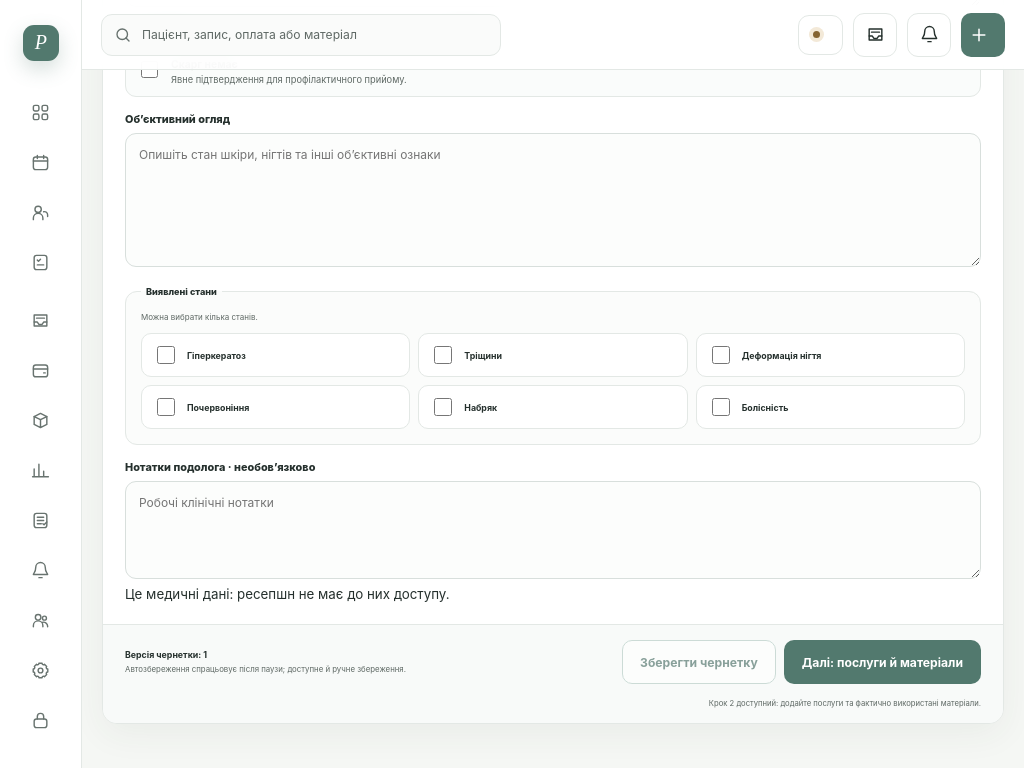
it: TP-1019 visit finish discount › clears an unavailable discount and requires confirmation after refreshing the picker
(page scrolled)
Click the button "Далі: послуги й матеріали" at (882, 662), box x1=784 y1=640 x2=981 y2=684
(page scrolled)
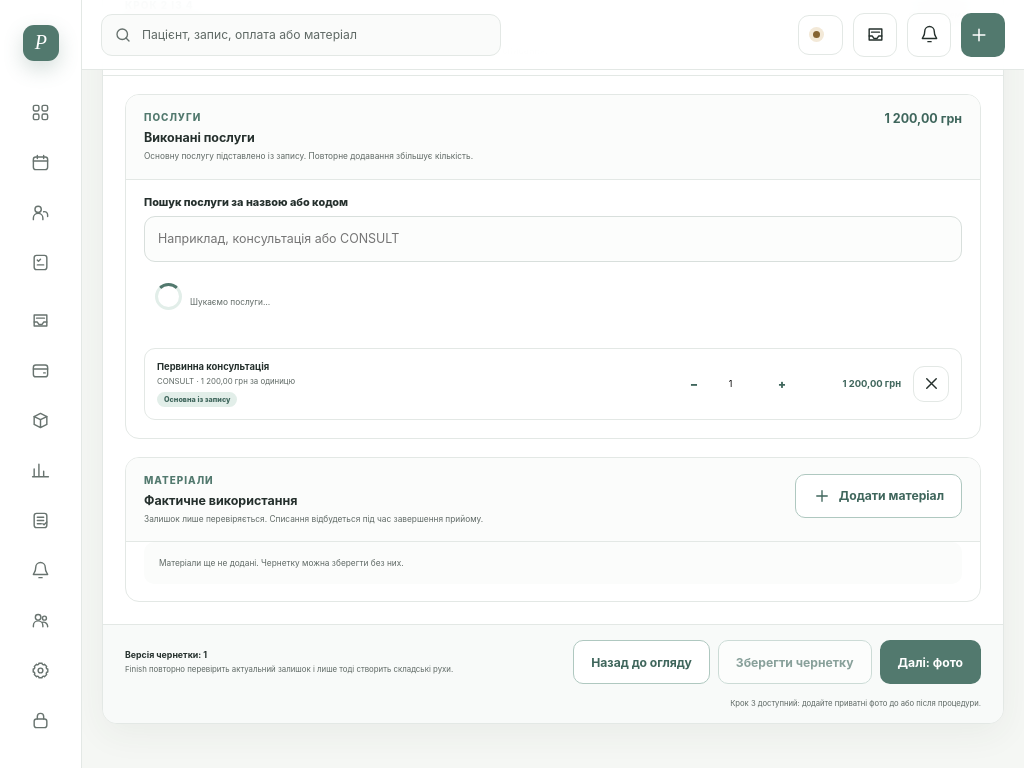
Click the button "Далі: фото" at (930, 662), box x1=880 y1=640 x2=981 y2=684
(page scrolled)
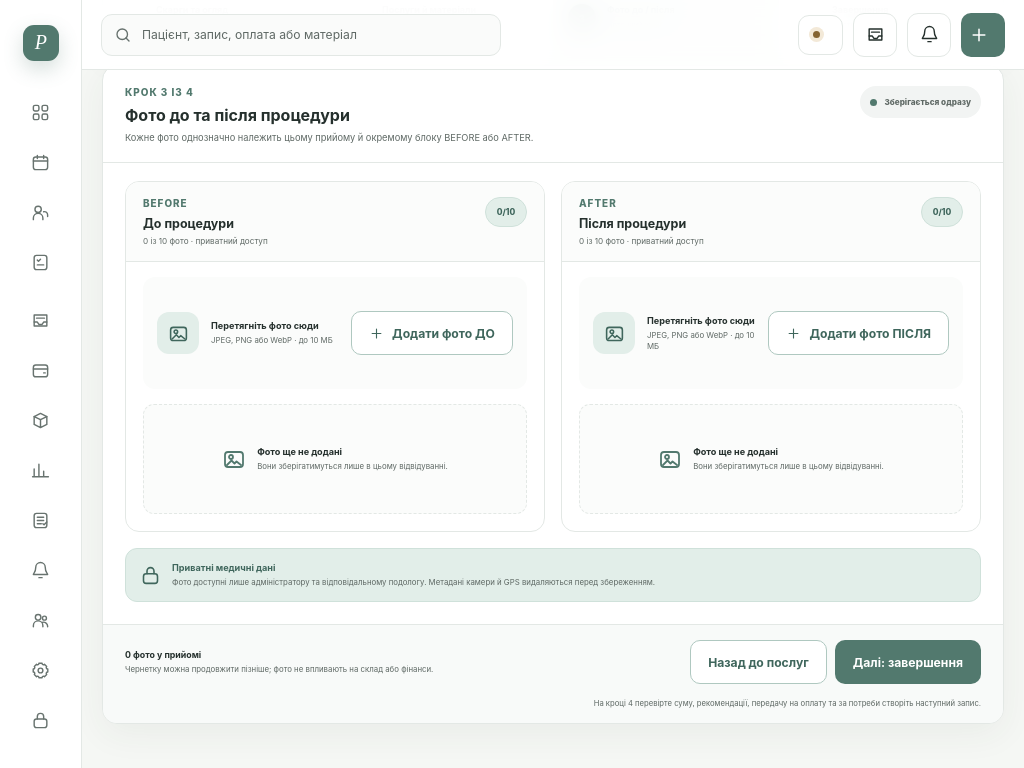
Click the button "Далі: завершення" at (908, 662), box x1=835 y1=640 x2=981 y2=684
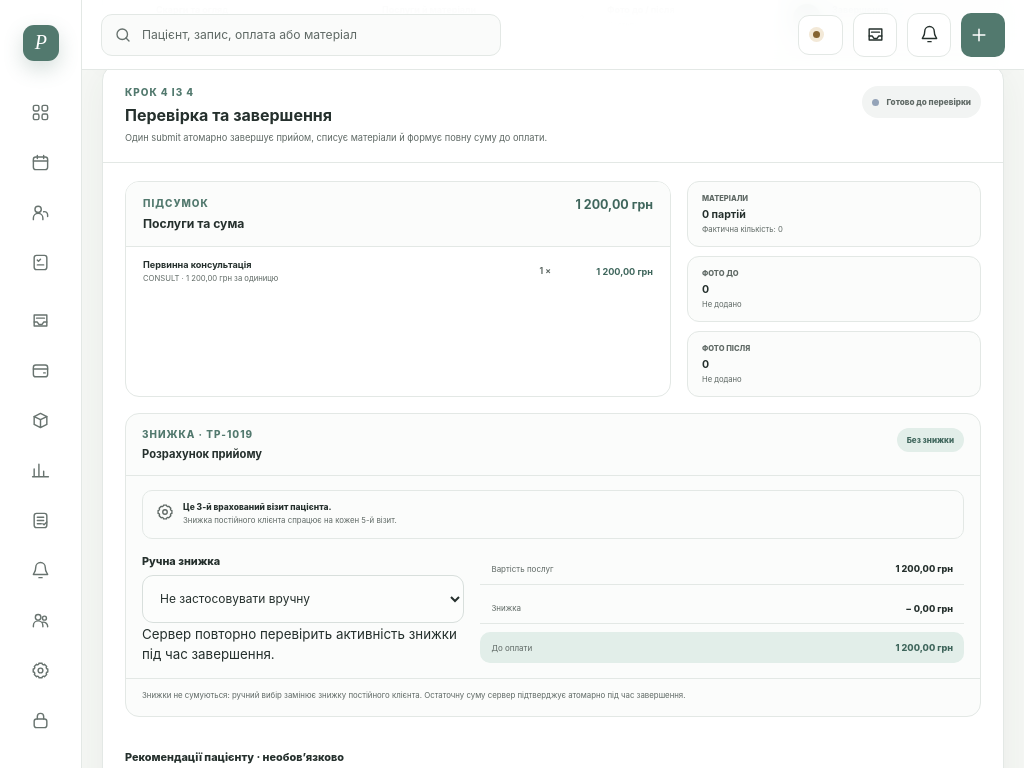
Now the heading "Перевірка та завершення" is shown, box x1=125 y1=105 x2=332 y2=125
Select "Постійний клієнт · 10%" in the dropdown labelled "Ручна знижка" at (303, 599), box x1=142 y1=575 x2=464 y2=623
(page scrolled)
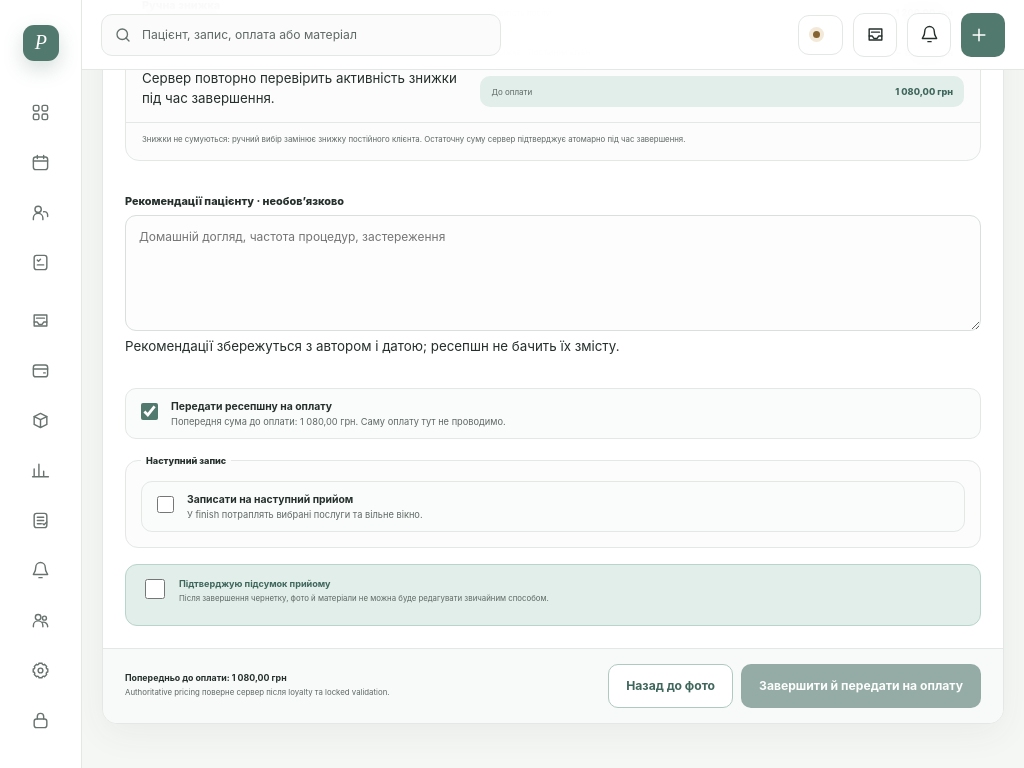
Click the checkbox labelled "Підтверджую підсумок прийому" at (155, 589), box x1=145 y1=579 x2=165 y2=599
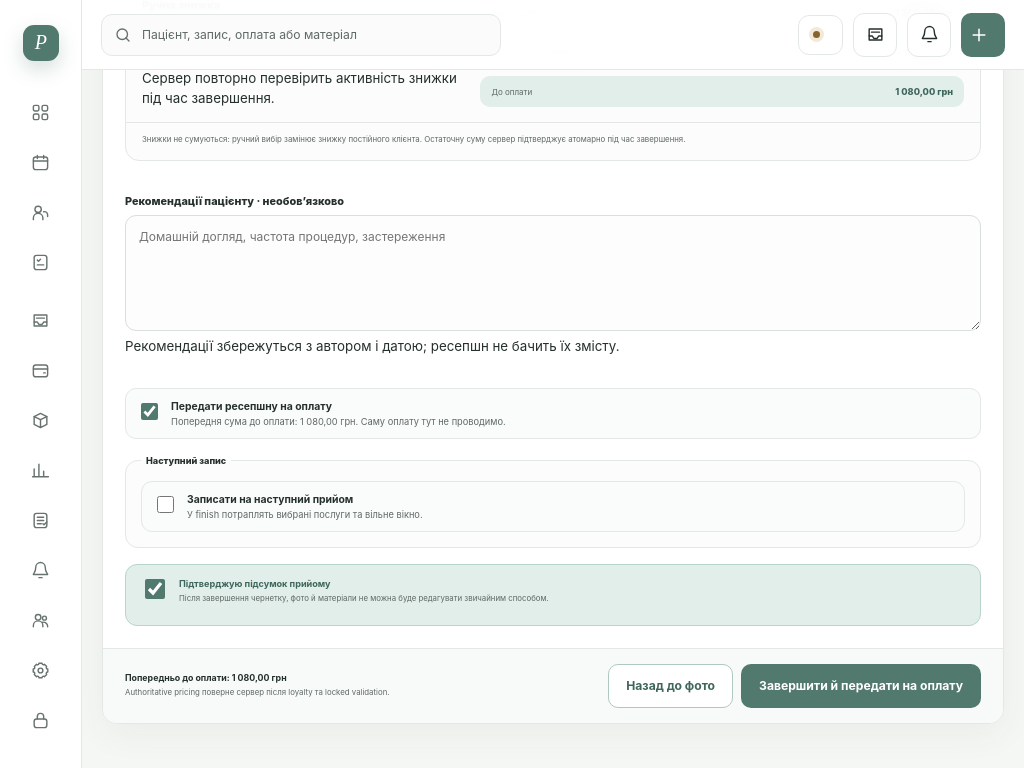
Click the button "Завершити й передати на оплату" at (861, 686), box x1=741 y1=664 x2=981 y2=708
(page scrolled)
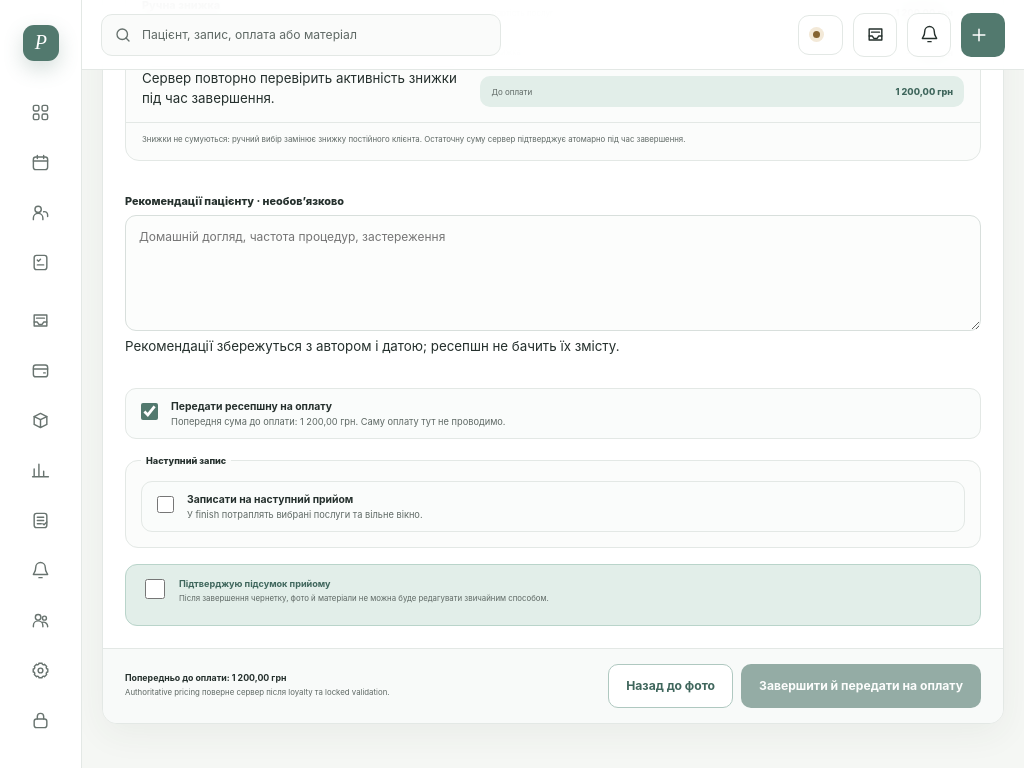
Now the checkbox labelled "Підтверджую підсумок прийому" is not checked, box x1=145 y1=579 x2=165 y2=599
Now the button "Завершити й передати на оплату" is disabled, box x1=741 y1=664 x2=981 y2=708
